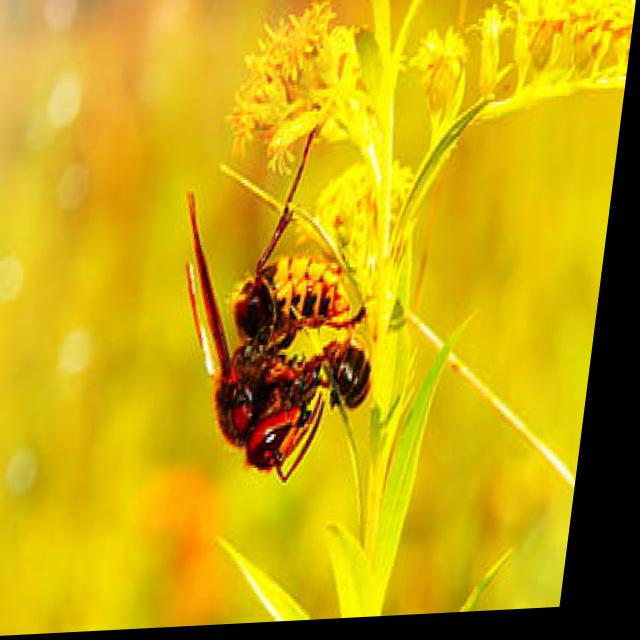Vespa Crabro: (137, 105, 424, 499)
